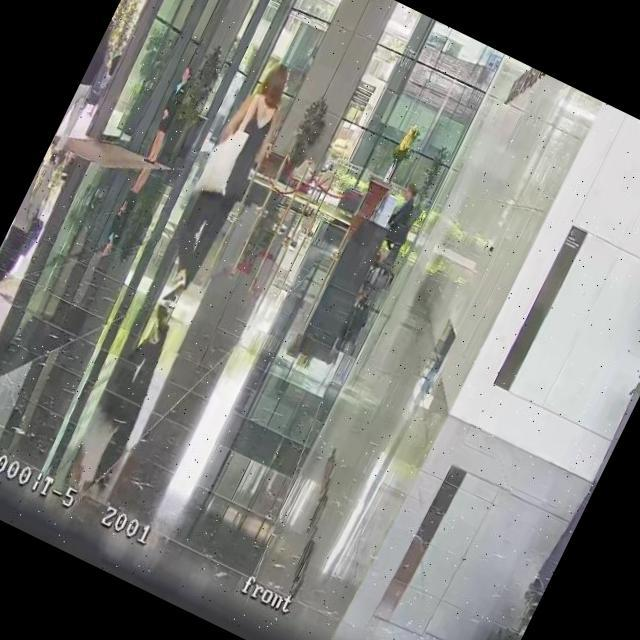person: (150, 54, 307, 302), (45, 18, 124, 160), (137, 64, 201, 168), (382, 180, 424, 243), (84, 51, 121, 117)
